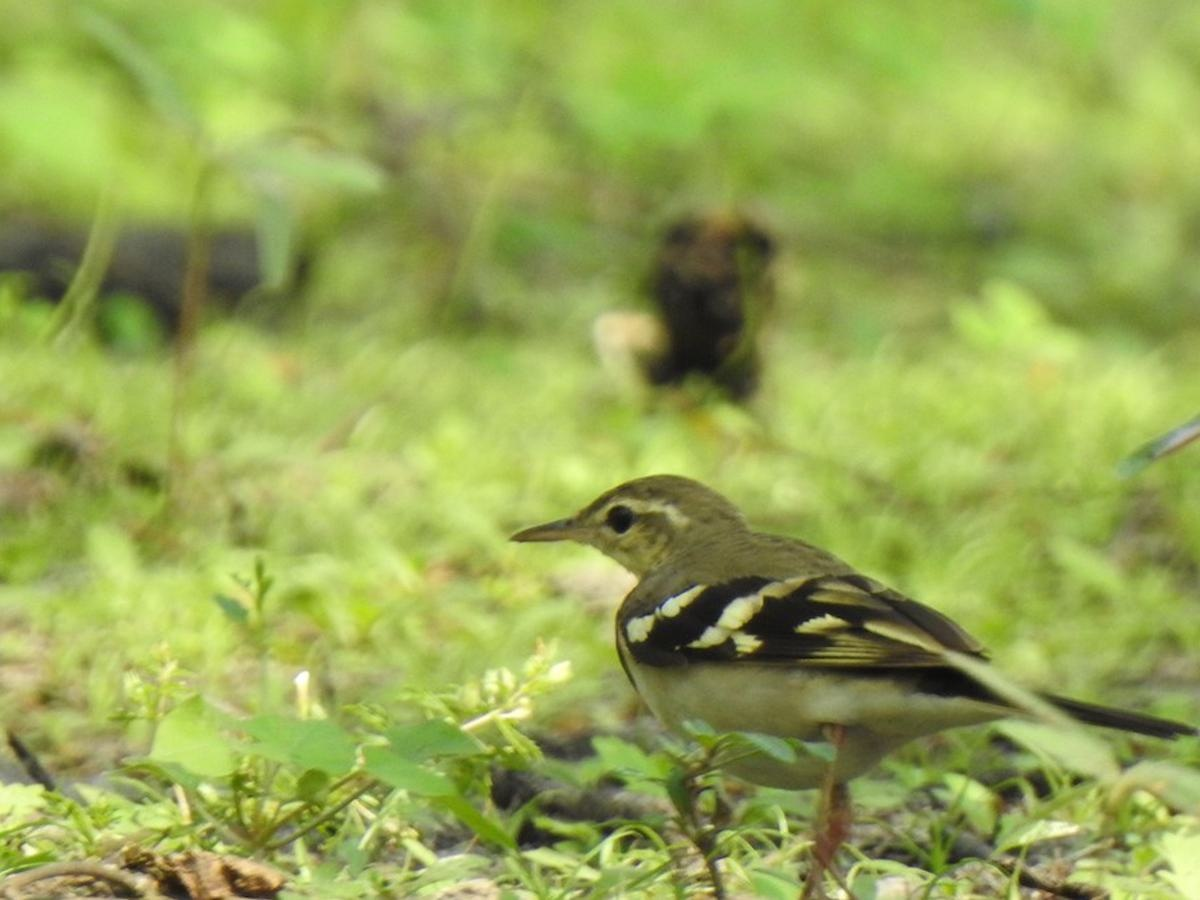wagtail: (509, 451, 1058, 841)
